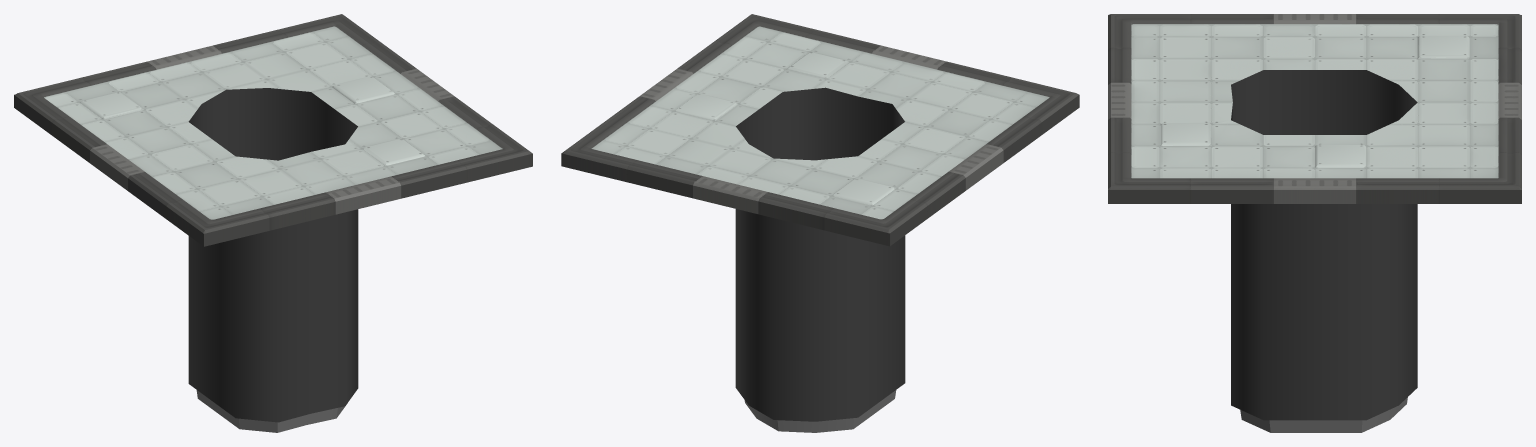
The model's file is Ground_Shelf.fbx.
The picture shows the model from 3 angles, left to right: view 1: azimuth 30°, elevation 25°; view 2: azimuth 150°, elevation 25°; view 3: azimuth 270°, elevation 25°; orthographic projection. The views are drawn at different scales.
Visible parts, largest first — view 1: Ground_Shelf; view 2: Ground_Shelf; view 3: Ground_Shelf.
Boxes of the visible parts, left/top/right/bottom form: Ground_Shelf: left=14, top=14, right=532, bottom=432; Ground_Shelf: left=561, top=14, right=1079, bottom=432; Ground_Shelf: left=1108, top=14, right=1521, bottom=432.
Size of the model in its own units: 1106 by 896 by 1106.
Materials: 3 (1 with a texture image).
